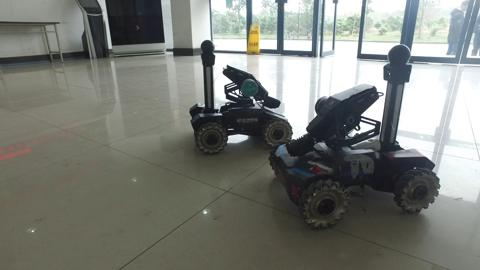chariot: (267, 39, 441, 233), (181, 37, 296, 156)
